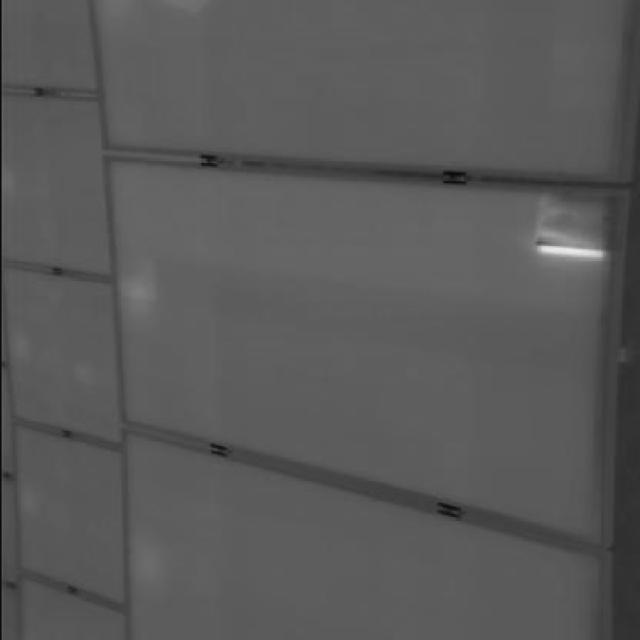hotspot: (527, 190, 610, 264)
